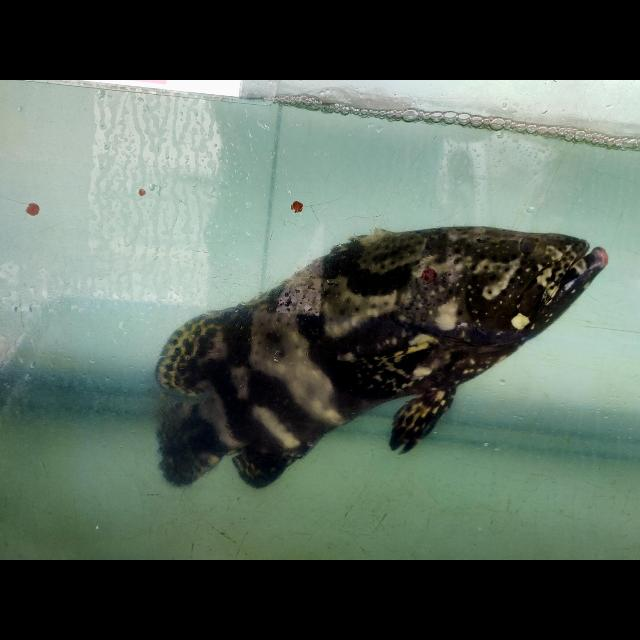Groupers: (152, 222, 608, 490)
